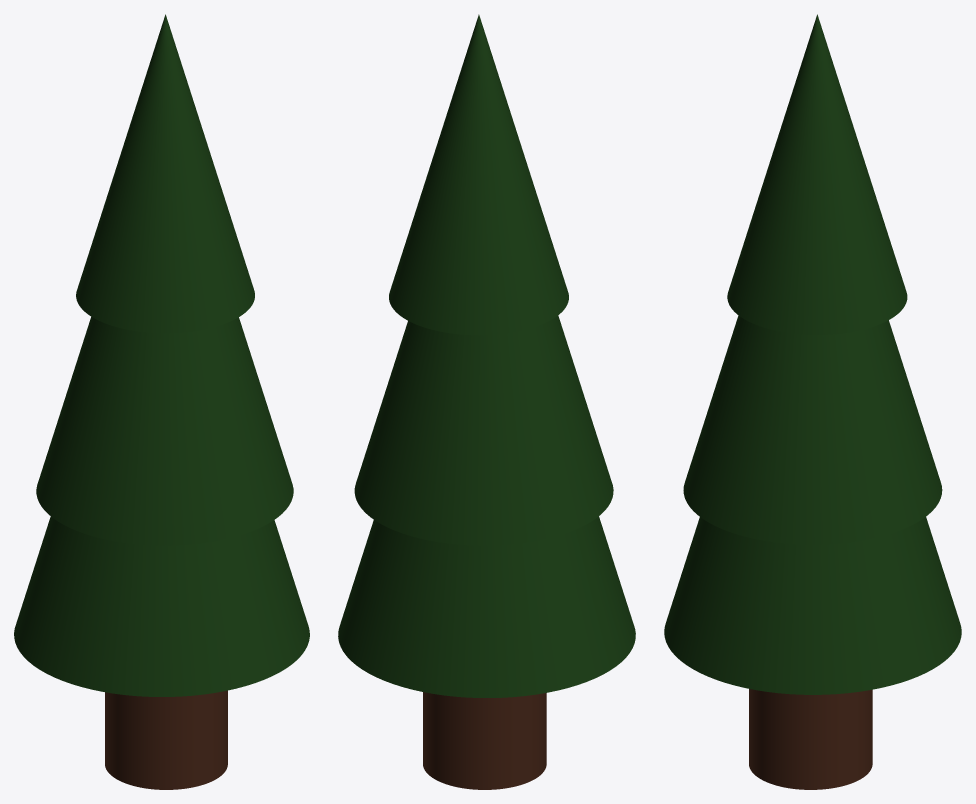
Rendered from HockeyTree.fbx.
3 views of the same model, side by side, from view 1: azimuth 30°, elevation 25°; view 2: azimuth 150°, elevation 25°; view 3: azimuth 270°, elevation 25° (orthographic).
Visible parts, largest first — view 1: root (×4); view 2: root (×4); view 3: root (×4).
Boxes of the visible parts, bbox=[...] form: root (×4): bbox=[14, 14, 309, 789]; root (×4): bbox=[338, 14, 635, 789]; root (×4): bbox=[664, 14, 961, 789].
Size of the model in its own units: 0.4045 by 1.13 by 0.4045.
Materials: 3 (1 with a texture image).
